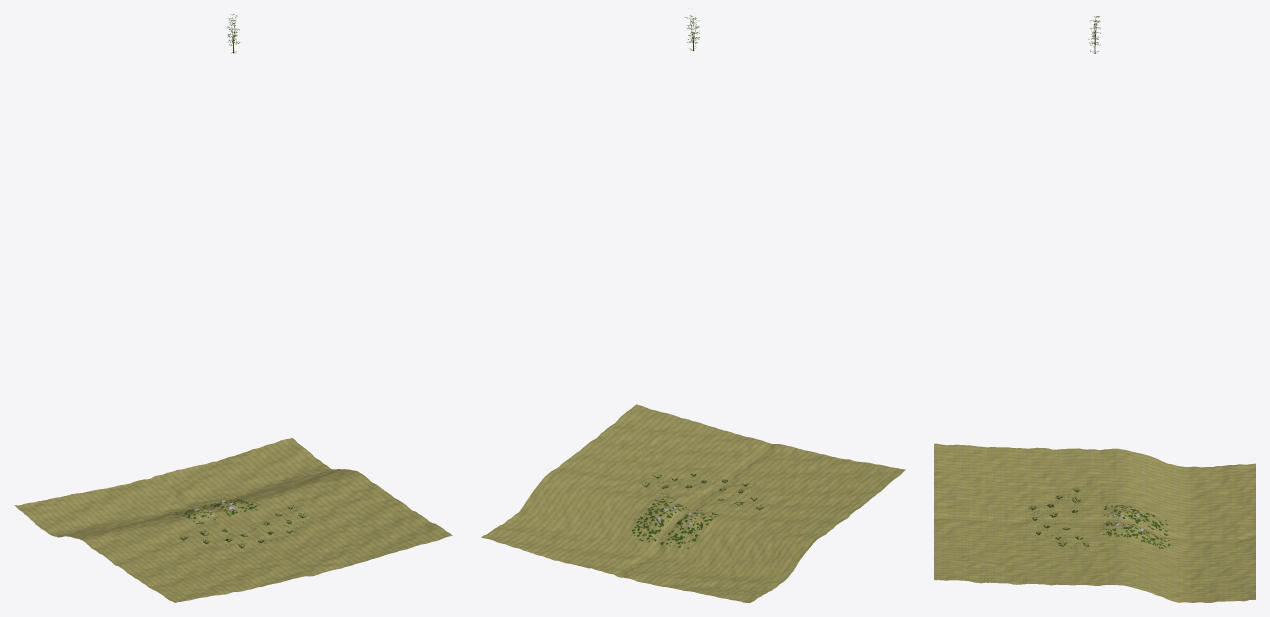
File: bamboo-garden-v17.glb
3 views of the same model, side by side, from view 1: azimuth 30°, elevation 25°; view 2: azimuth 150°, elevation 25°; view 3: azimuth 270°, elevation 25° (orthographic). The views are drawn at different scales.
Visible parts, largest first — view 1: terrain; view 2: terrain, bank_moss; view 3: terrain, bank_moss.
Boxes of the visible parts, <box> form: terrain: <box>14,438,452,602</box>; terrain: <box>481,404,905,602</box>; bank_moss: <box>631,499,718,548</box>; terrain: <box>934,443,1255,602</box>; bank_moss: <box>1103,505,1170,548</box>.
Size of the model in its own units: 56 by 101 by 56.
Materials: 12 (7 with a texture image).
